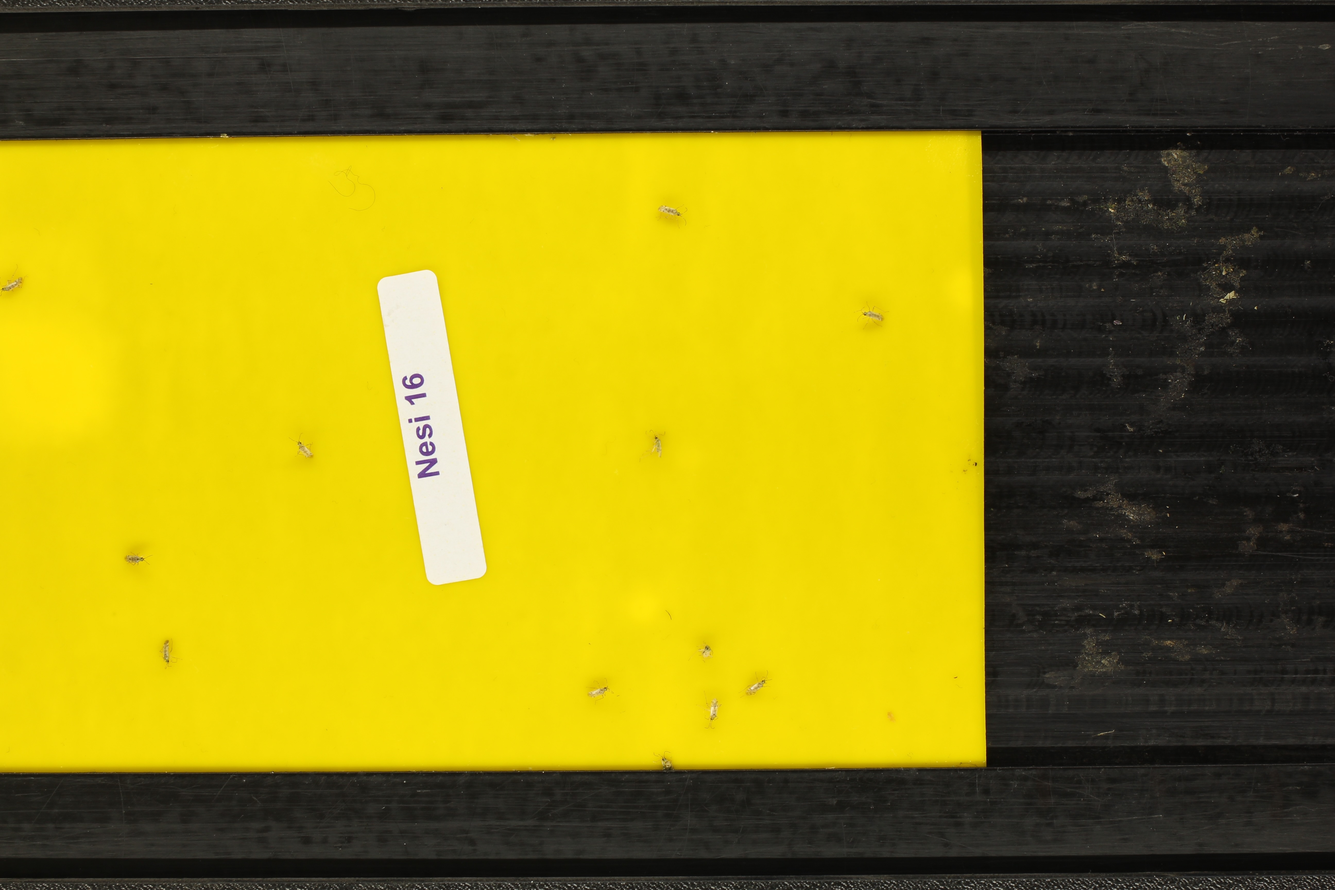NC: (288, 433, 322, 470), (653, 197, 693, 227), (118, 547, 155, 575), (158, 634, 184, 673), (852, 300, 887, 328), (585, 679, 622, 705), (700, 692, 725, 730), (0, 269, 30, 297), (743, 672, 772, 697), (650, 750, 679, 774), (695, 643, 719, 668), (643, 428, 665, 453)
